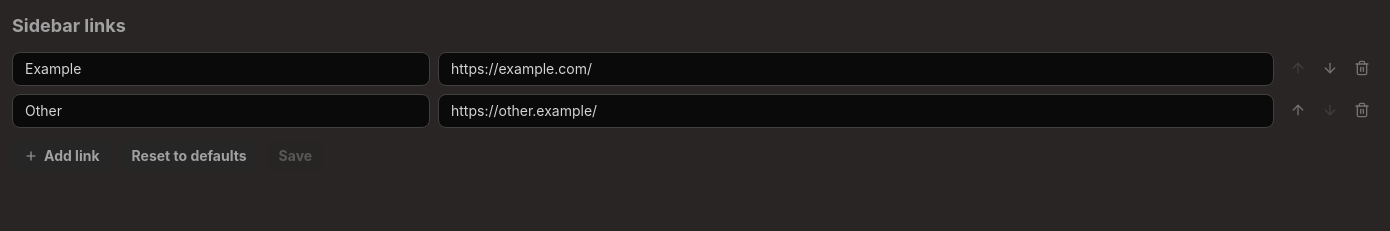
Test: LinksEditor › adds a link, normalising a bare host
Click the button "Add link".
click(62, 156)  # box 12,140 -> 112,172
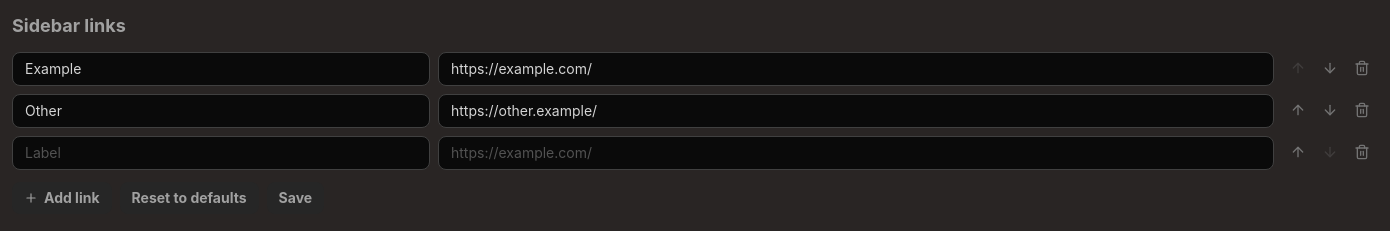
Type "Local" into the field with placeholder "Label".
click(221, 153); type("Local")  # box 12,136 -> 430,170
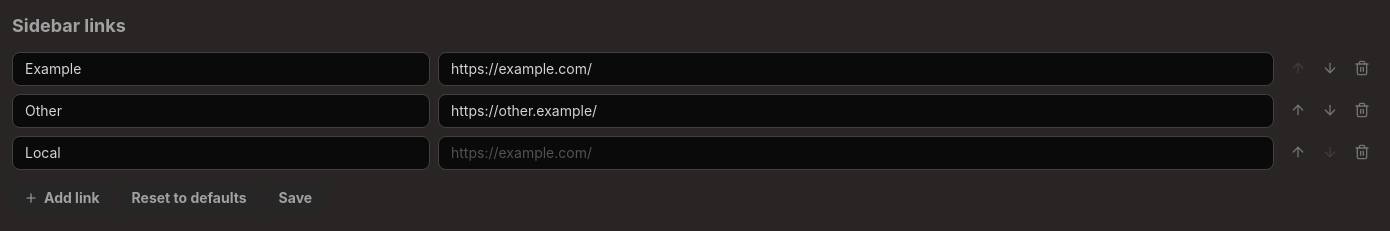
Type "localhost:3000" into the field with placeholder "https://example.com/".
click(856, 153); type("localhost:3000")  # box 438,136 -> 1274,170
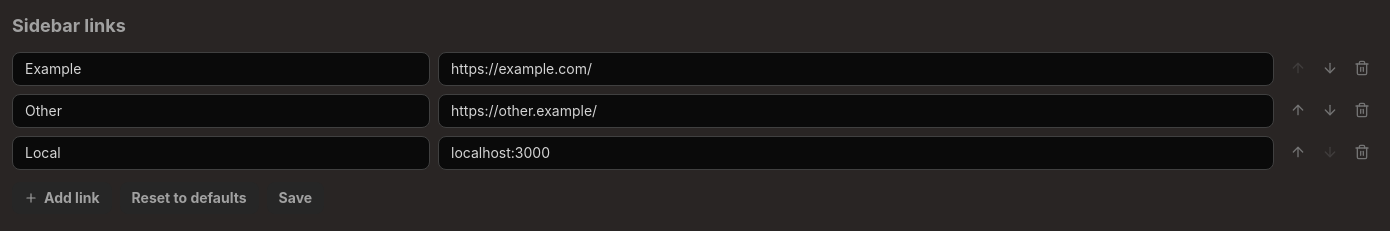
Click the button "Save".
click(295, 198)  # box 267,182 -> 324,214
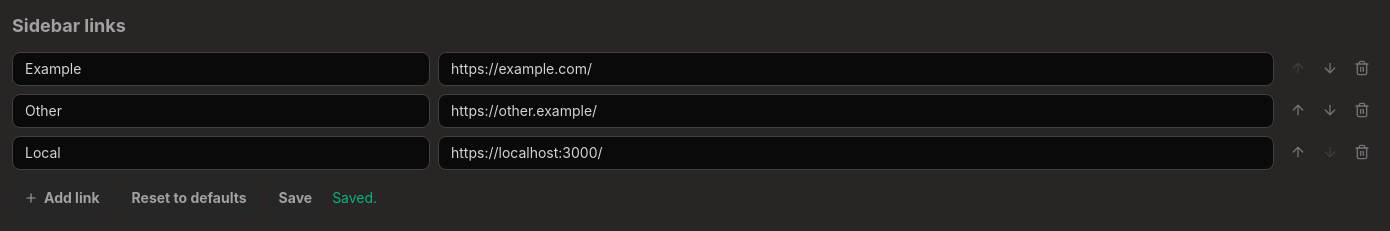
Expected: the text "Saved." is shown, 332,188 -> 377,208
